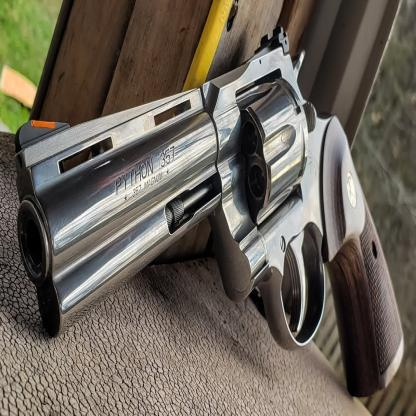handgun: (13, 31, 402, 385)
